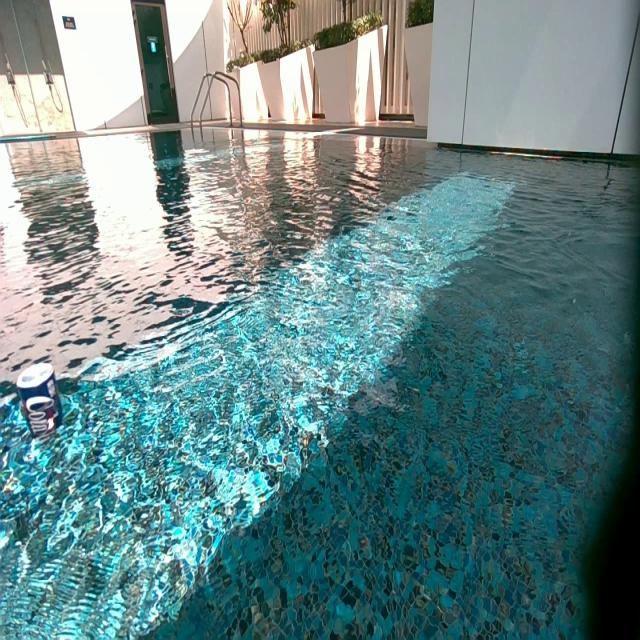Cans: (16, 359, 66, 418)
